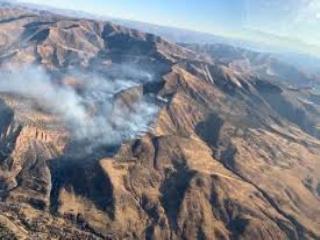smoke: (77, 56, 165, 141)
